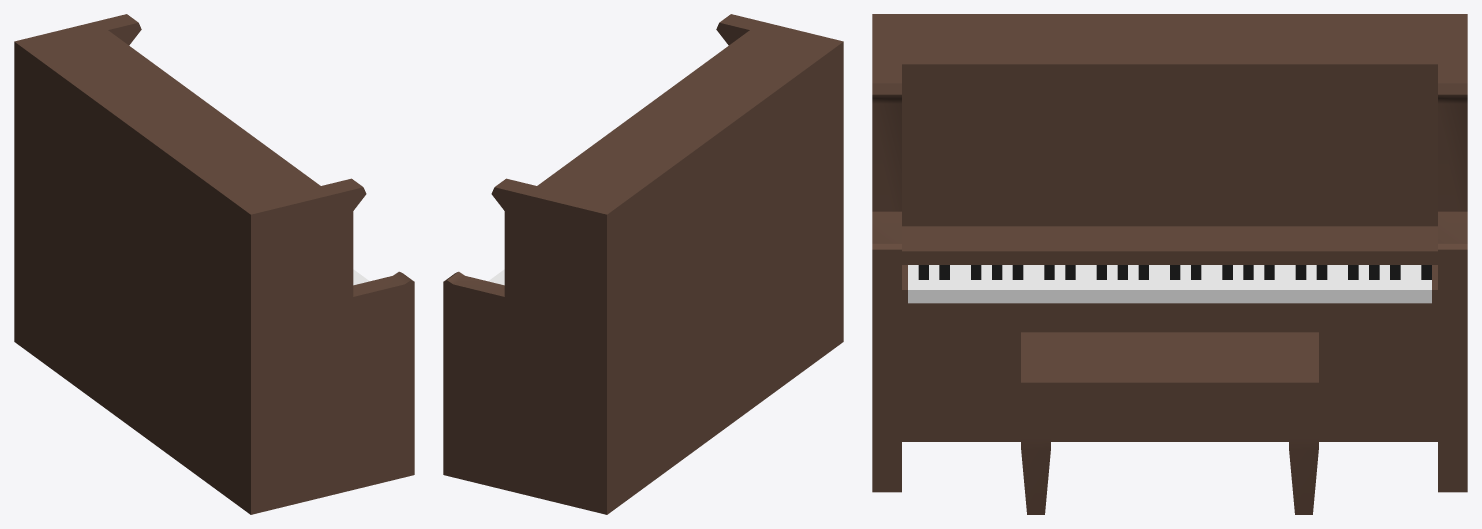
3 renders of one model, left to right at view 1: azimuth 30°, elevation 25°; view 2: azimuth 150°, elevation 25°; view 3: azimuth 270°, elevation 25°, orthographic. The views are drawn at different scales.
Visible parts, largest first — view 1: Piano_2x1x2_0; view 2: Piano_2x1x2_0; view 3: Piano_2x1x2_0, Piano_2x1x2_1, Piano_2x1x2_2.
Boxes of the visible parts, left/top/right/bottom form: Piano_2x1x2_0: left=14, top=14, right=414, bottom=514; Piano_2x1x2_0: left=443, top=14, right=843, bottom=514; Piano_2x1x2_0: left=872, top=14, right=1467, bottom=514; Piano_2x1x2_1: left=908, top=265, right=1431, bottom=303; Piano_2x1x2_2: left=918, top=265, right=1431, bottom=279.
Size of the model in its own units: 1 by 1.4 by 2.
